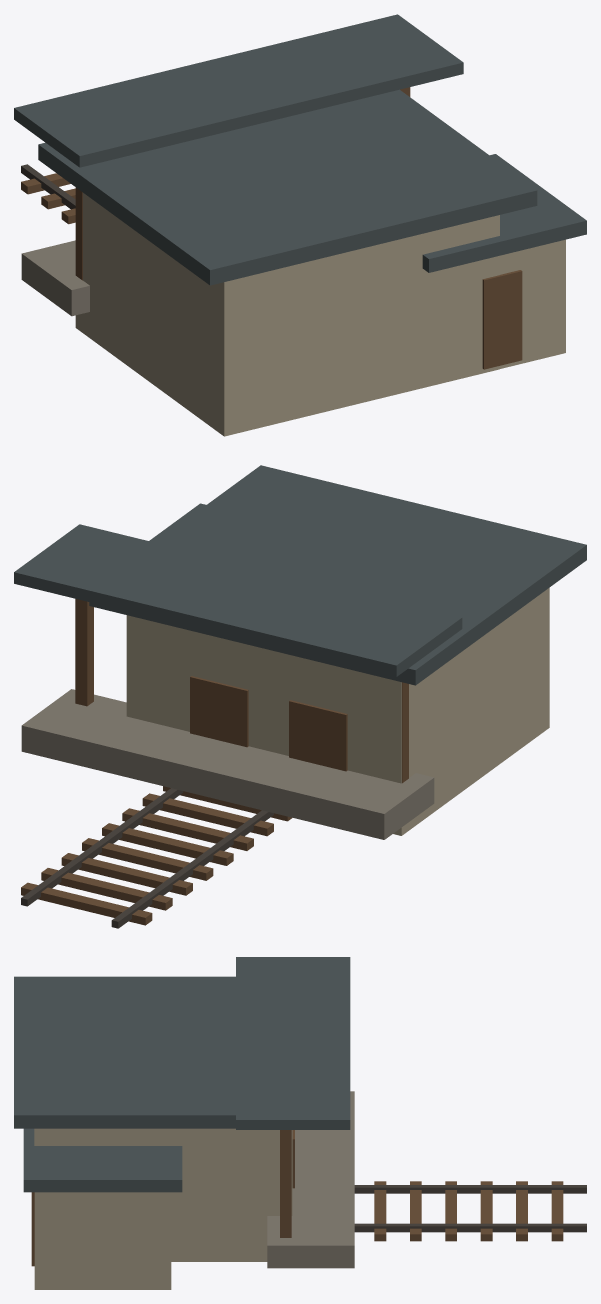
The model's file is cargo-station.source.glb.
The picture shows the model from 3 angles, top to bottom: view 1: azimuth 30°, elevation 25°; view 2: azimuth 150°, elevation 25°; view 3: azimuth 270°, elevation 25°; orthographic projection. The views are drawn at different scales.
Parts seen in each view (by area): view 1: cargo-station-main-hall-mesh, cargo-station-gable-roof-mesh, cargo-station-platform-canopy-mesh, cargo-station-small-office-mesh, cargo-station-office-roof-mesh, cargo-station-office-door-mesh, cargo-station-platform-deck-mesh, cargo-station-canopy-post--2.15-mesh, cargo-station-rail--0.62-mesh; view 2: cargo-station-main-hall-mesh, cargo-station-gable-roof-mesh, cargo-station-platform-canopy-mesh, cargo-station-platform-deck-mesh, cargo-station-rail-door-0.25-mesh, cargo-station-rail-door--1.1-mesh, cargo-station-canopy-post-2.15-mesh, cargo-station-rail--0.62-mesh, cargo-station-rail-0.62-mesh, cargo-station-tie--0.10000000000000009-mesh, cargo-station-tie-0.3799999999999999-mesh, cargo-station-tie--0.5800000000000001-mesh (+5 smaller); view 3: cargo-station-gable-roof-mesh, cargo-station-platform-canopy-mesh, cargo-station-main-hall-mesh, cargo-station-small-office-mesh, cargo-station-platform-deck-mesh, cargo-station-office-roof-mesh, cargo-station-rail-0.62-mesh, cargo-station-rail--0.62-mesh, cargo-station-canopy-post-2.15-mesh, cargo-station-tie--1.54-mesh, cargo-station-tie--0.10000000000000009-mesh, cargo-station-tie--2.5-mesh (+3 smaller).
Boxes of the visible parts, <box> form: cargo-station-main-hall-mesh: <box>75,193,499,436</box>; cargo-station-gable-roof-mesh: <box>38,89,537,285</box>; cargo-station-platform-canopy-mesh: <box>14,14,463,167</box>; cargo-station-small-office-mesh: <box>500,239,565,368</box>; cargo-station-office-roof-mesh: <box>422,154,586,272</box>; cargo-station-office-door-mesh: <box>482,270,522,369</box>; cargo-station-platform-deck-mesh: <box>21,240,89,316</box>; cargo-station-canopy-post--2.15-mesh: <box>75,187,82,280</box>; cargo-station-rail--0.62-mesh: <box>21,164,75,209</box>; cargo-station-main-hall-mesh: <box>126,588,549,835</box>; cargo-station-gable-roof-mesh: <box>89,465,586,685</box>; cargo-station-platform-canopy-mesh: <box>14,524,462,676</box>; cargo-station-platform-deck-mesh: <box>21,689,434,839</box>; cargo-station-rail-door-0.25-mesh: <box>190,676,248,747</box>; cargo-station-rail-door--1.1-mesh: <box>289,700,347,771</box>; cargo-station-canopy-post-2.15-mesh: <box>75,599,93,706</box>; cargo-station-rail--0.62-mesh: <box>111,810,273,928</box>; cargo-station-rail-0.62-mesh: <box>21,788,183,906</box>; cargo-station-tie--0.10000000000000009-mesh: <box>122,808,253,850</box>; cargo-station-tie-0.3799999999999999-mesh: <box>142,793,273,836</box>; cargo-station-tie--0.5800000000000001-mesh: <box>102,823,233,865</box>; cargo-station-gable-roof-mesh: <box>14,976,235,1128</box>; cargo-station-platform-canopy-mesh: <box>236,957,350,1129</box>; cargo-station-main-hall-mesh: <box>34,1128,292,1261</box>; cargo-station-small-office-mesh: <box>34,1192,171,1289</box>; cargo-station-platform-deck-mesh: <box>267,1091,354,1268</box>; cargo-station-office-roof-mesh: <box>23,1128,182,1192</box>; cargo-station-rail-0.62-mesh: <box>354,1223,586,1232</box>; cargo-station-rail--0.62-mesh: <box>354,1185,586,1193</box>; cargo-station-canopy-post-2.15-mesh: <box>280,1130,291,1237</box>; cargo-station-tie--1.54-mesh: <box>480,1181,492,1241</box>; cargo-station-tie--0.10000000000000009-mesh: <box>374,1181,386,1241</box>; cargo-station-tie--2.5-mesh: <box>551,1181,563,1241</box>.
Size of the model in its own units: 5.23 by 2.64 by 7.77.
